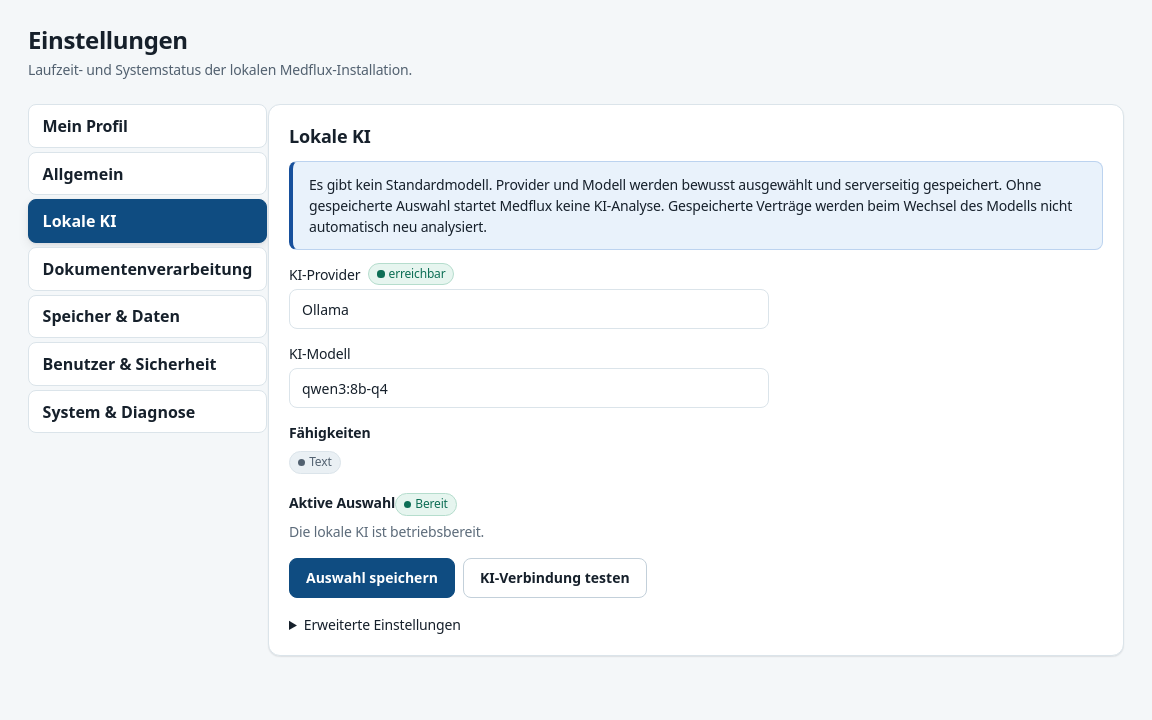
it: Einstellungen (STEP 6B, Anbieter-unabhängig) › speichert die Auswahl via PUT und bestätigt mit Toast
Click the button "Auswahl speichern".
click(372, 578)  # box x1=289 y1=558 x2=455 y2=598
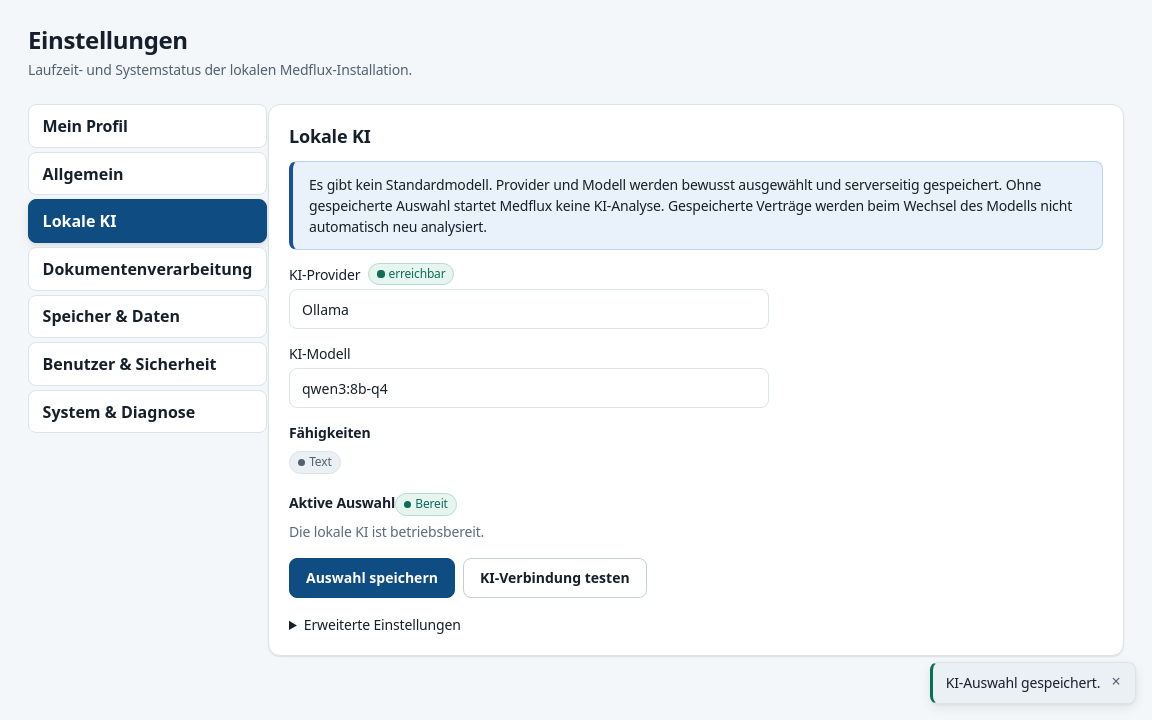
Expected: the text "KI-Auswahl gespeichert." is shown, x1=946 y1=673 x2=1100 y2=693
